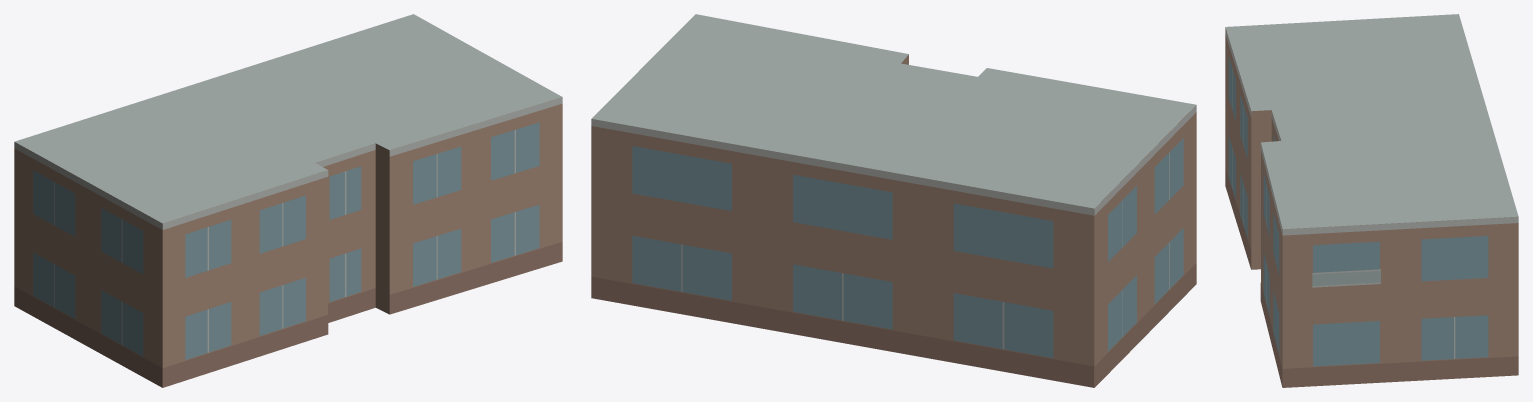
Rendered from survey-upis-32819492.glb.
3 views of the same model, side by side, from view 1: azimuth 30°, elevation 25°; view 2: azimuth 150°, elevation 25°; view 3: azimuth 270°, elevation 25° (orthographic). The views are drawn at different scales.
Parts seen in each view (by area): view 1: survey-upis-32819492.tmp; view 2: survey-upis-32819492.tmp; view 3: survey-upis-32819492.tmp.
Part boxes in pixels (x1,y1,x2,y2): survey-upis-32819492.tmp: (14, 14, 562, 387); survey-upis-32819492.tmp: (591, 14, 1196, 387); survey-upis-32819492.tmp: (1225, 14, 1518, 387).
Size of the model in its own units: 17.76 by 6.1 by 10.23.
